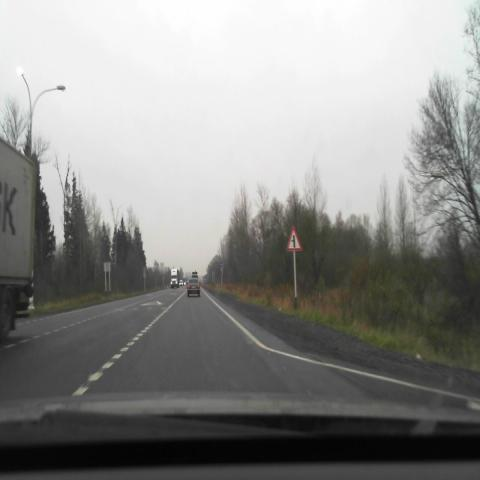2_3_3: (286, 226, 302, 251)
